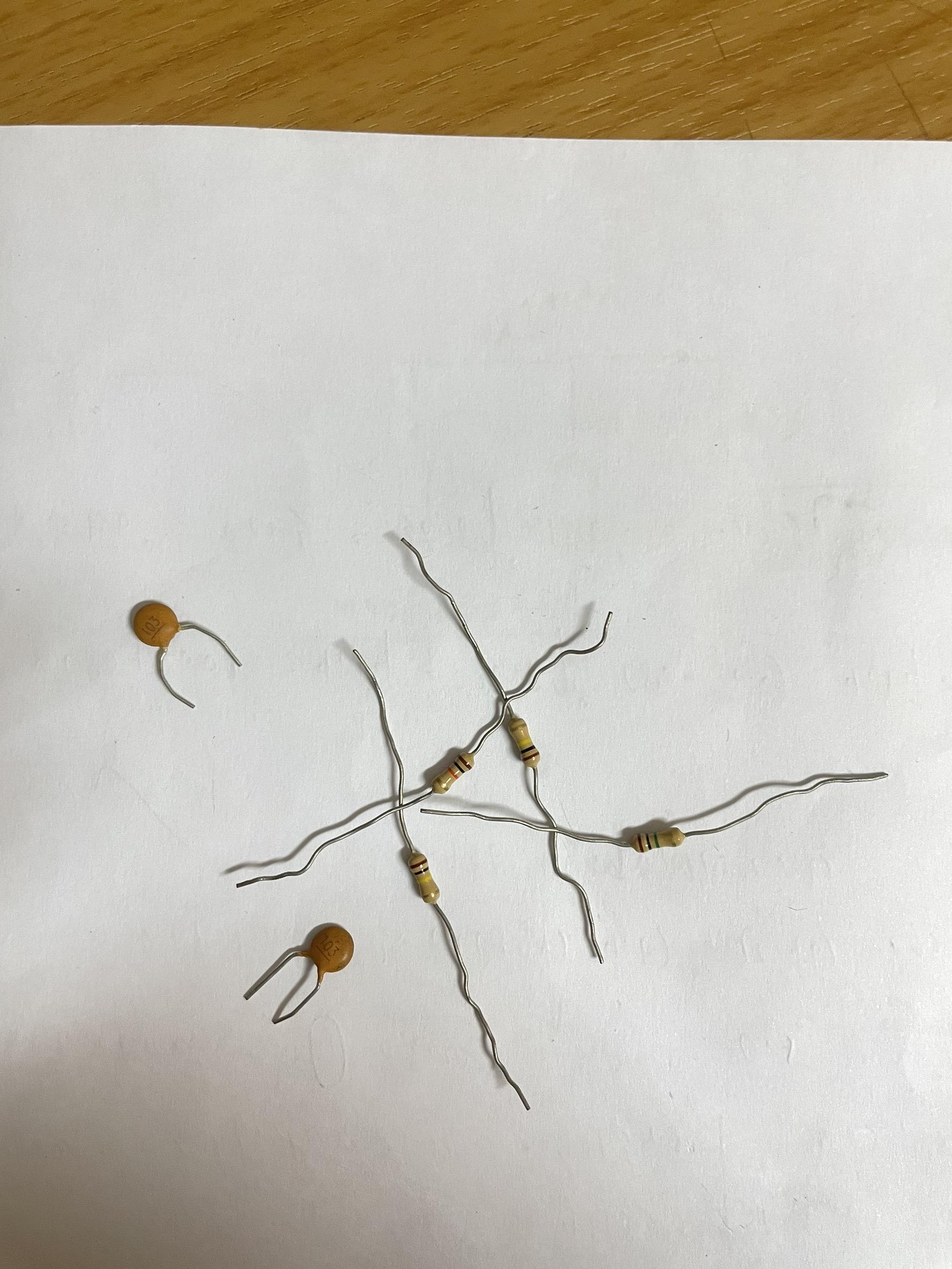resistor: (432, 751, 474, 795), (507, 716, 542, 767), (407, 852, 441, 904), (633, 828, 684, 853)
